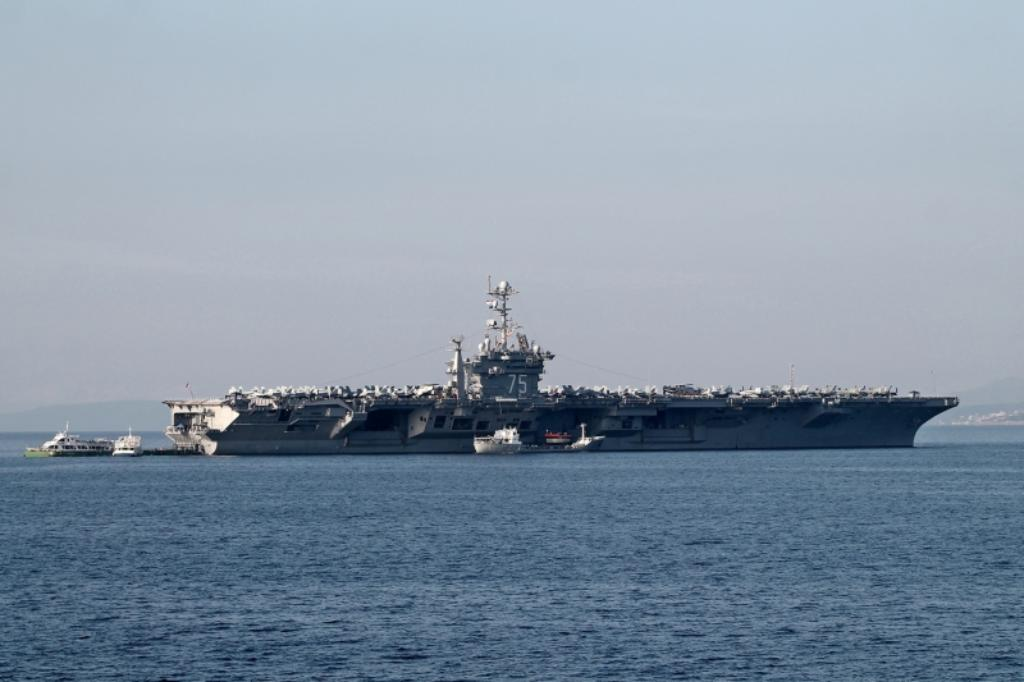Warship: (162, 281, 966, 461)
